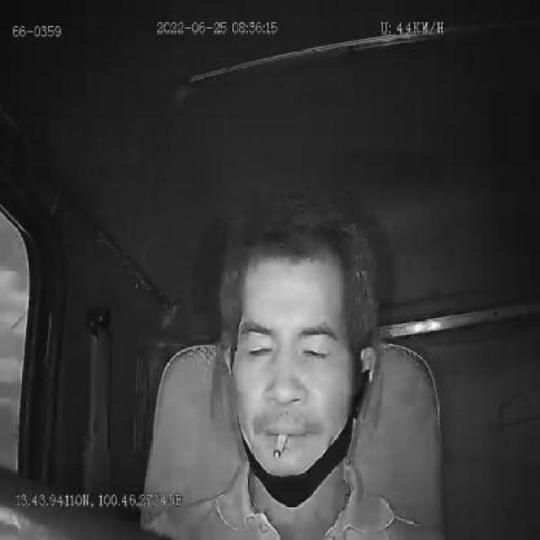smoking: (271, 433, 288, 457)
